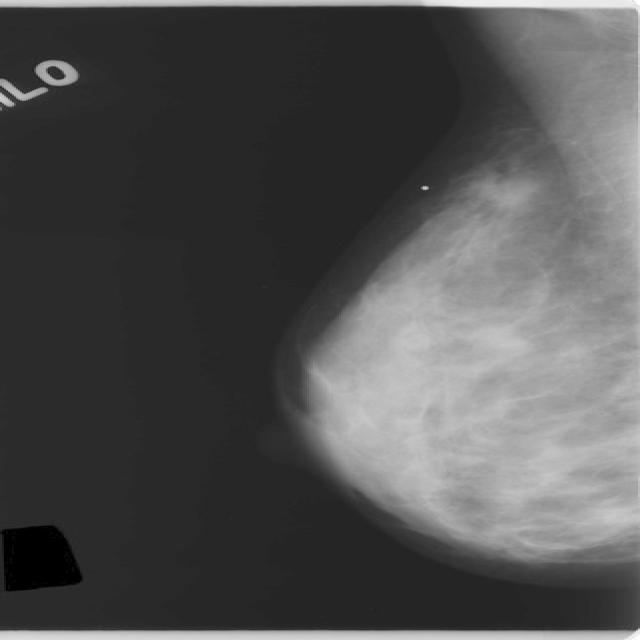tumour: (468, 168, 544, 211)
